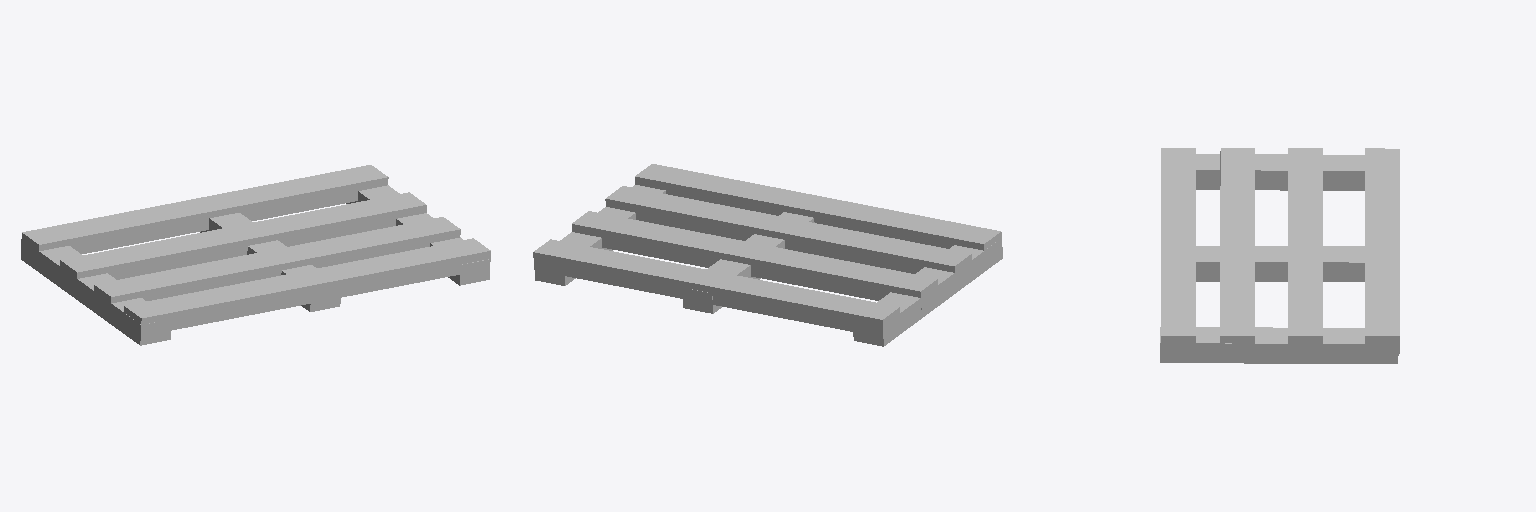
Rendered from Palett.obj.
3 renders of one model, left to right at view 1: azimuth 30°, elevation 25°; view 2: azimuth 150°, elevation 25°; view 3: azimuth 270°, elevation 25°, orthographic.
Visible parts, largest first — view 1: Cube.009; view 2: Cube.009; view 3: Cube.009.
Part boxes in pixels (bbox=[...]): Cube.009: bbox=[21, 165, 490, 345]; Cube.009: bbox=[533, 164, 1002, 346]; Cube.009: bbox=[1160, 148, 1399, 363].
Bounding box in the file's own units: 2.43 × 0.3108 × 1.44.